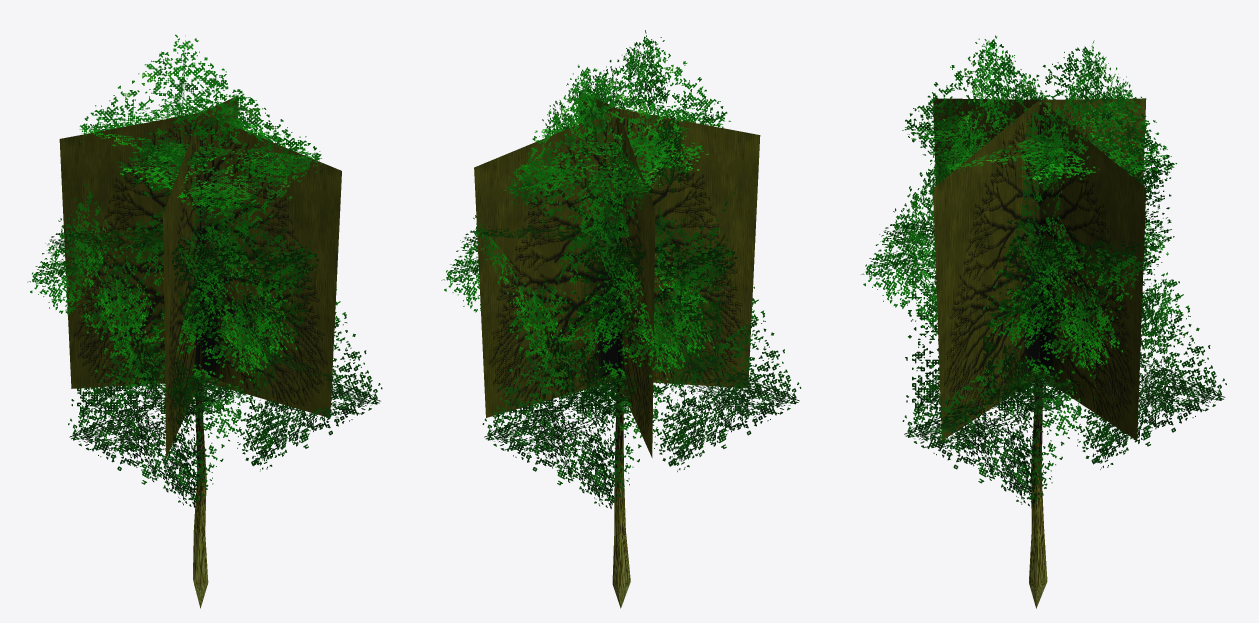
The model's file is haagbeuk_1.fbx.
3 views of the same model, side by side, from view 1: azimuth 30°, elevation 25°; view 2: azimuth 150°, elevation 25°; view 3: azimuth 270°, elevation 25° (orthographic). The views are drawn at different scales.
Visible parts, largest first — view 1: haagbeuk_1; view 2: haagbeuk_1; view 3: haagbeuk_1.
Part boxes in pixels (x1,y1,x2,y2): haagbeuk_1: (27, 34, 382, 608); haagbeuk_1: (441, 30, 801, 608); haagbeuk_1: (861, 35, 1226, 608).
Bounding box in the file's own units: 427 × 692 × 422.
